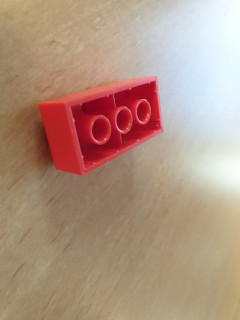2x4 red: (31, 72, 168, 177)
